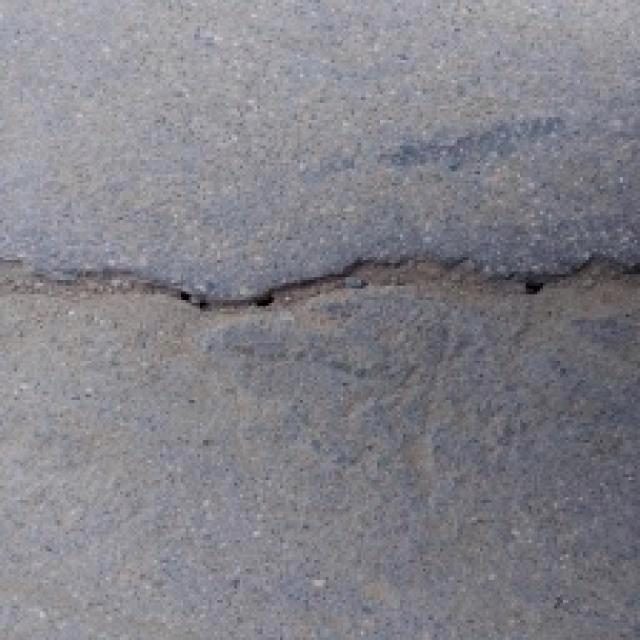crack: (0, 224, 640, 354)
